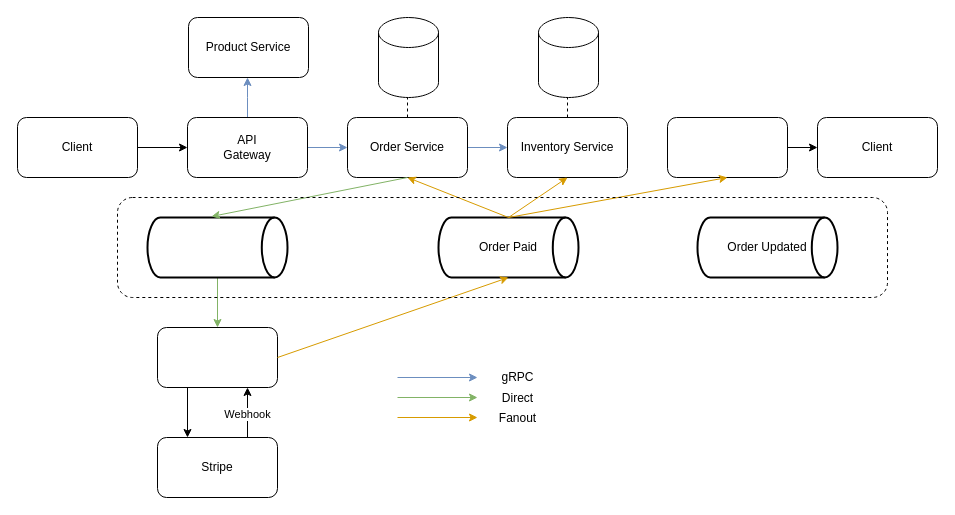
This 955x515 diagram has some shape labels left out. The shapes that lost their labels are listed below. From the top down, each one's box as (x1, y1, x2, y2) in pixels, then its label:
(378, 16, 438, 98): Order DB
(538, 16, 598, 98): Inventory DB
(666, 116, 788, 178): Delivery Service
(146, 216, 288, 278): Order Created
(156, 326, 278, 388): Payment Service
